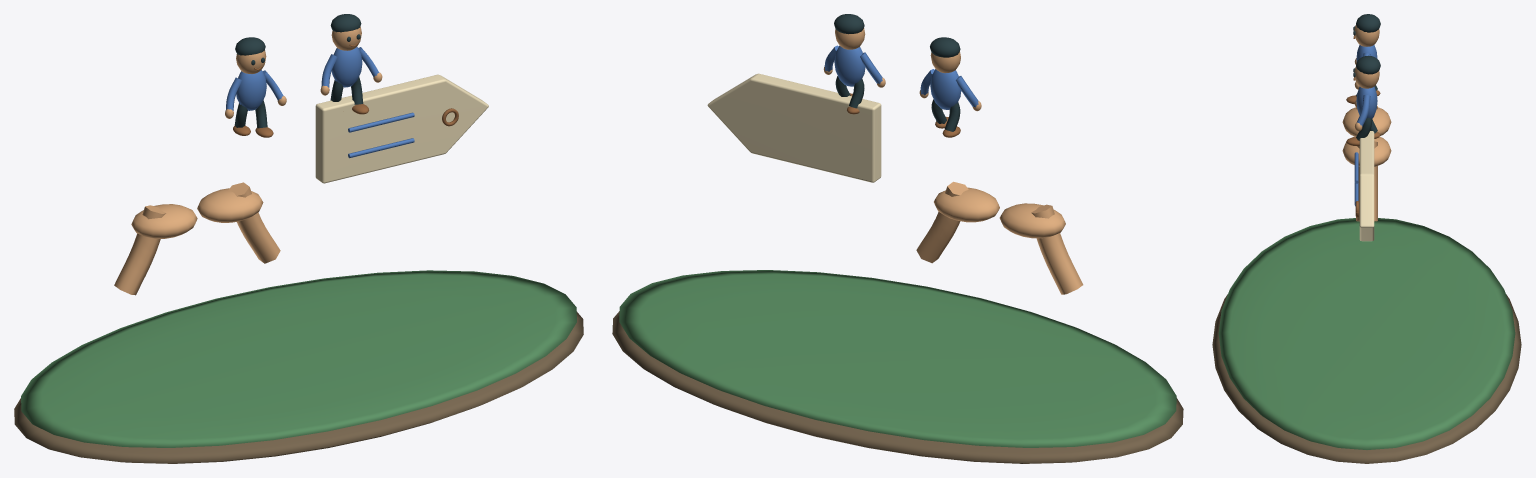
Rendered from complete-second-has-name.glb.
3 views of the same model, side by side, from view 1: azimuth 30°, elevation 25°; view 2: azimuth 150°, elevation 25°; view 3: azimuth 270°, elevation 25° (orthographic). The views are drawn at different scales.
Visible parts, largest first — view 1: complete-second-has-name_surface_01, complete-second-has-name_surface_03, complete-second-has-name_surface_00, complete-second-has-name_surface_02, complete-second-has-name_surface_05, complete-second-has-name_surface_06, complete-second-has-name_surface_04; view 2: complete-second-has-name_surface_01, complete-second-has-name_surface_03, complete-second-has-name_surface_00, complete-second-has-name_surface_02, complete-second-has-name_surface_05, complete-second-has-name_surface_06; view 3: complete-second-has-name_surface_01, complete-second-has-name_surface_00, complete-second-has-name_surface_02, complete-second-has-name_surface_03, complete-second-has-name_surface_05, complete-second-has-name_surface_06.
Boxes of the visible parts, x1=… form: complete-second-has-name_surface_01: x1=21, y1=270, x2=576, y2=447; complete-second-has-name_surface_03: x1=315, y1=74, x2=488, y2=183; complete-second-has-name_surface_00: x1=14, y1=311, x2=583, y2=463; complete-second-has-name_surface_02: x1=114, y1=26, x2=382, y2=295; complete-second-has-name_surface_05: x1=225, y1=47, x2=414, y2=158; complete-second-has-name_surface_06: x1=234, y1=14, x2=363, y2=128; complete-second-has-name_surface_04: x1=233, y1=43, x2=458, y2=137; complete-second-has-name_surface_01: x1=619, y1=270, x2=1176, y2=447; complete-second-has-name_surface_03: x1=707, y1=73, x2=881, y2=182; complete-second-has-name_surface_00: x1=612, y1=311, x2=1183, y2=463; complete-second-has-name_surface_02: x1=823, y1=28, x2=1083, y2=294; complete-second-has-name_surface_05: x1=824, y1=45, x2=978, y2=109; complete-second-has-name_surface_06: x1=834, y1=14, x2=960, y2=131; complete-second-has-name_surface_01: x1=1218, y1=218, x2=1515, y2=449; complete-second-has-name_surface_00: x1=1212, y1=294, x2=1521, y2=463; complete-second-has-name_surface_02: x1=1342, y1=25, x2=1391, y2=221; complete-second-has-name_surface_03: x1=1359, y1=131, x2=1374, y2=241; complete-second-has-name_surface_05: x1=1354, y1=45, x2=1377, y2=206; complete-second-has-name_surface_06: x1=1353, y1=14, x2=1380, y2=140.
Size of the model in its own units: 4.56 by 2.88 by 2.5.
